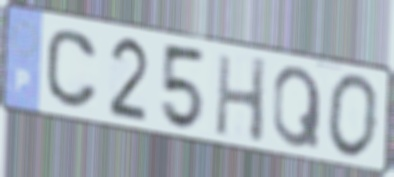2: (107, 33, 152, 126)
5: (157, 40, 214, 134)
C: (44, 26, 101, 112)
H: (213, 51, 270, 147)
O: (325, 71, 382, 163)
Q: (271, 63, 324, 152)
